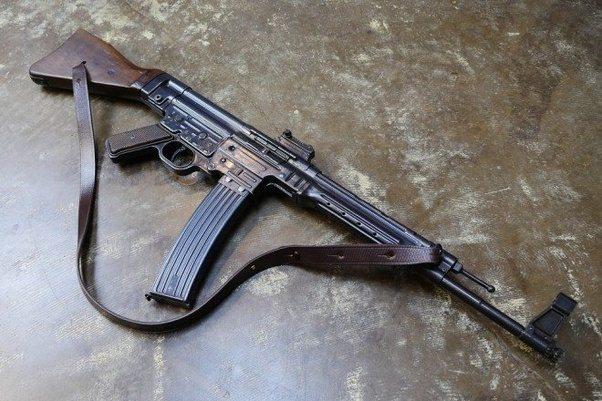Rifle: (29, 24, 582, 366)
